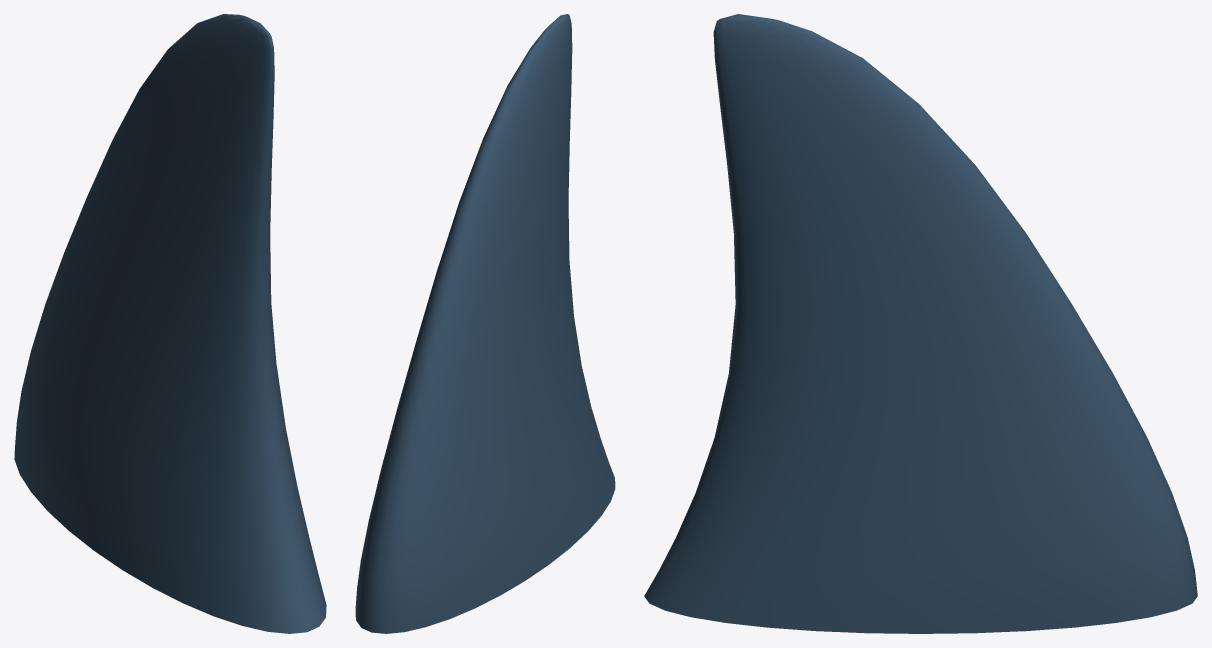
The model's file is shark-fin.glb.
The picture shows the model from 3 angles, left to right: view 1: azimuth 30°, elevation 25°; view 2: azimuth 150°, elevation 25°; view 3: azimuth 270°, elevation 25°; orthographic projection. The views are drawn at different scales.
Visible parts, largest first — view 1: Swept dorsal fin only; view 2: Swept dorsal fin only; view 3: Swept dorsal fin only.
Part boxes in pixels (x1,y1,x2,y2): Swept dorsal fin only: (14, 14, 326, 633); Swept dorsal fin only: (355, 14, 615, 633); Swept dorsal fin only: (644, 14, 1197, 633).
Bounding box in the file's own units: 0.078 × 0.2804 × 0.2417.
